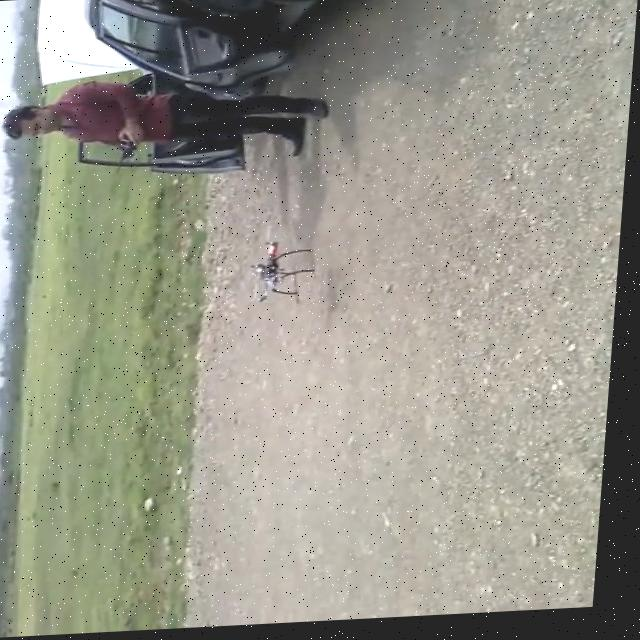drone: (245, 239, 322, 306)
